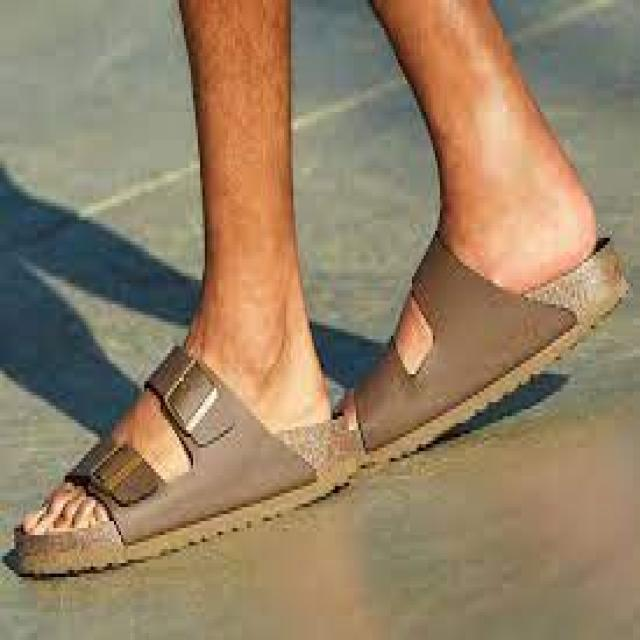Sandals: (18, 278, 356, 577)
